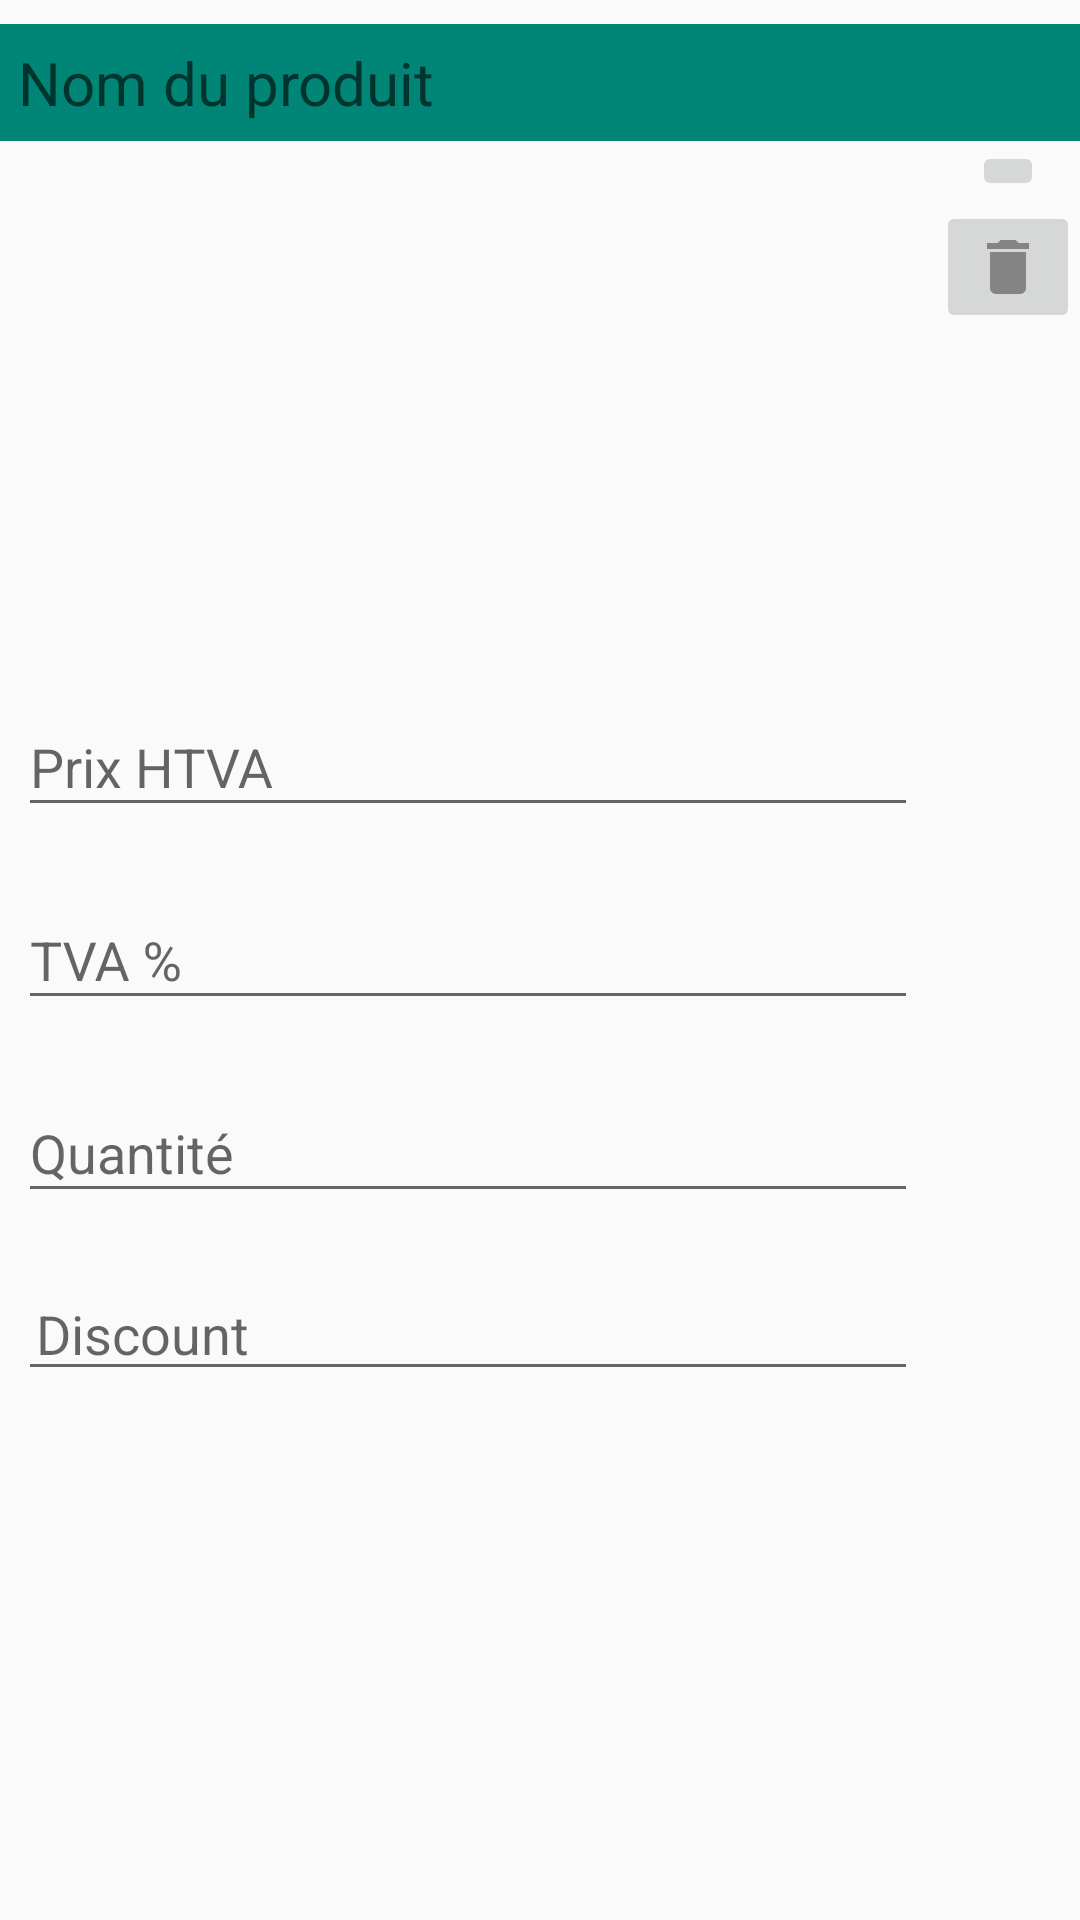

Icon click points for this 1080px×1920px phone screenshot, format (x=x, y=y):
delete: (x=1008, y=267)
